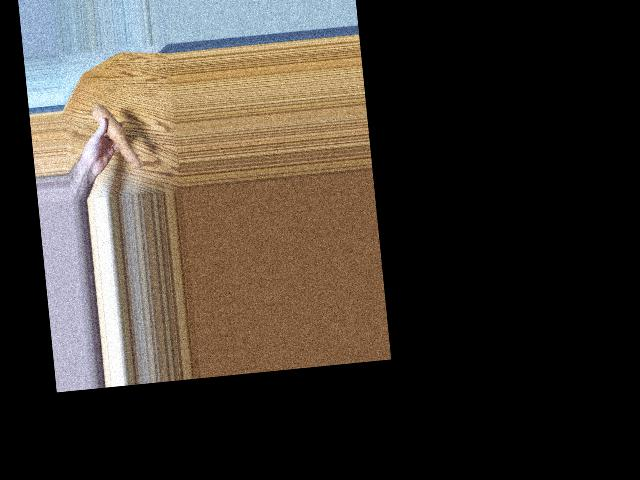sweet_potato: (93, 93, 136, 171)
